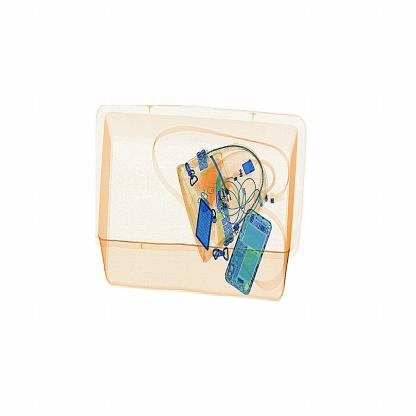wrench: (206, 160, 232, 251)
